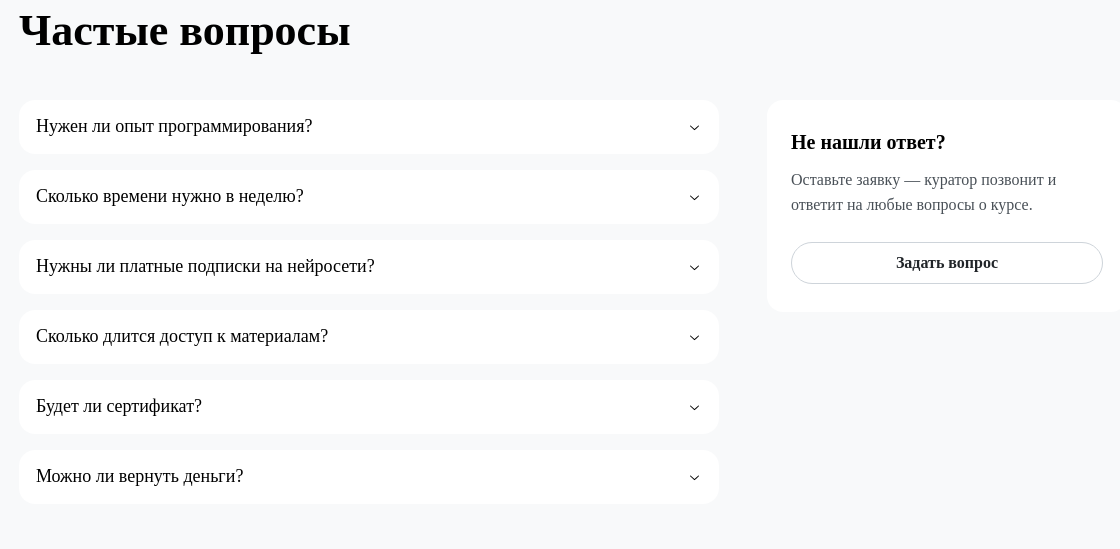
it: SectionFaq › все вопросы закрыты, по клику открывается ответ
This screenshot has width=1120, height=549.
Click the button "Нужен ли опыт программирования?" at (174, 126), box [20,101,718,153]
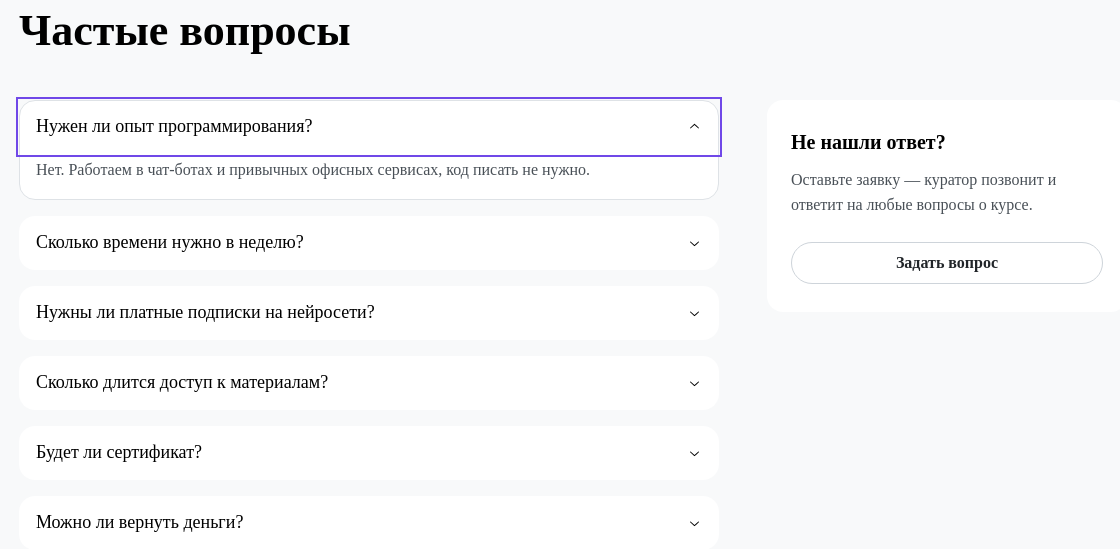
expect the button "Нужен ли опыт программирования?" is expanded: met, box [20,101,718,153]
